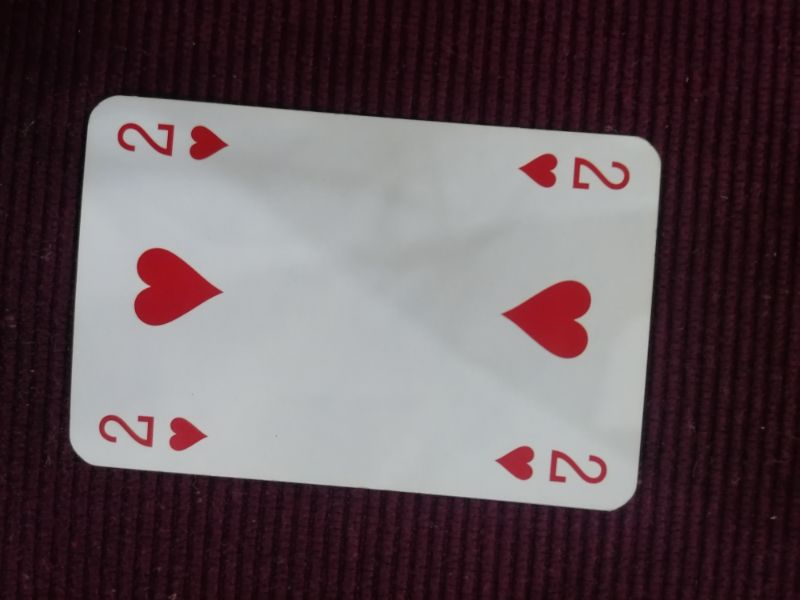2h: (491, 442, 613, 490), (116, 116, 235, 163), (97, 409, 212, 455), (516, 150, 637, 193)
